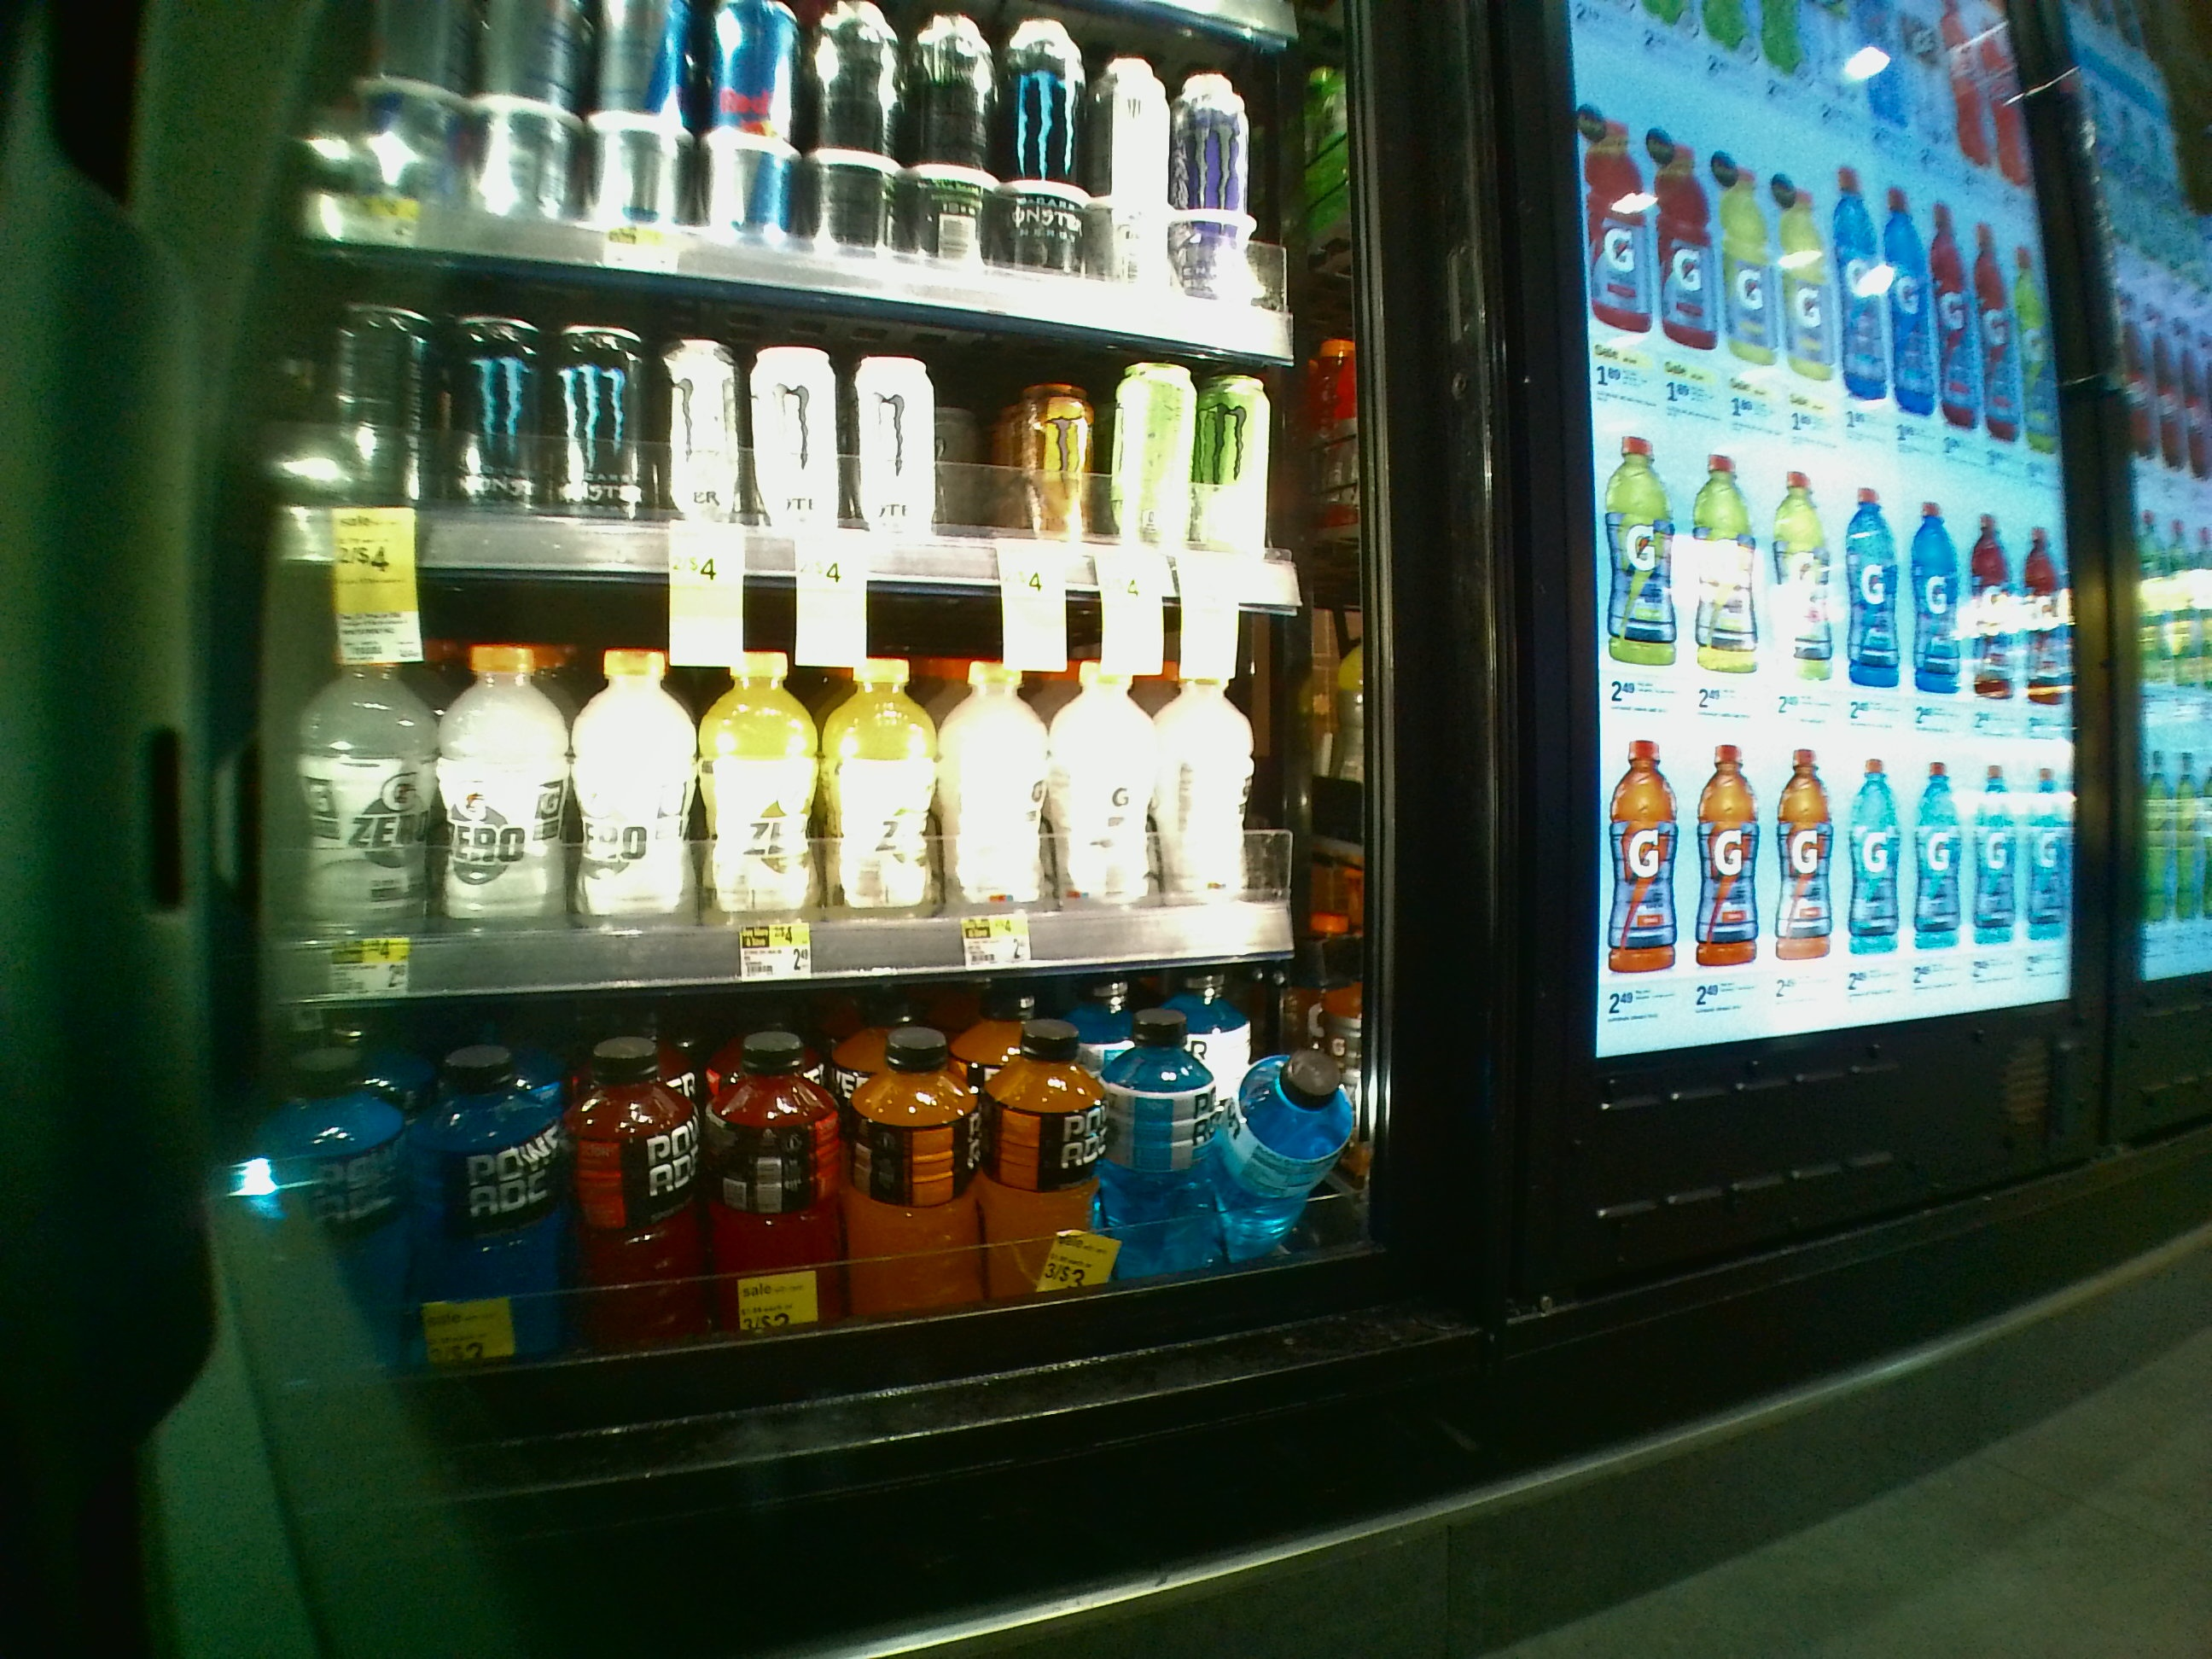shelf: (249, 566, 1372, 967)
